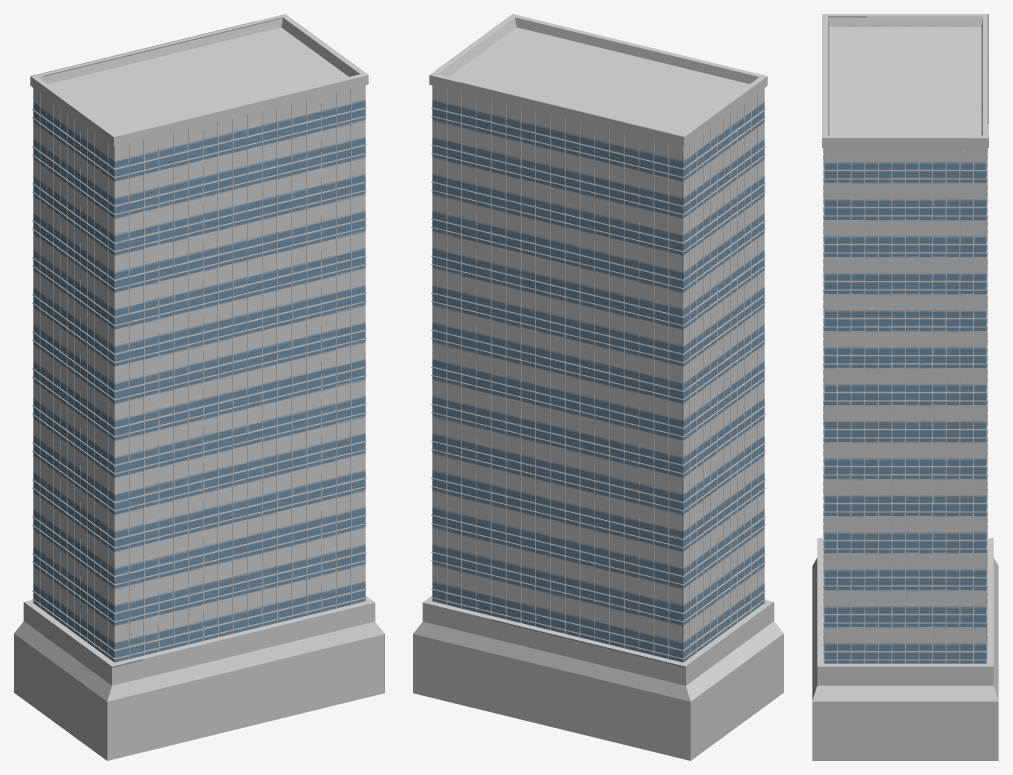
The model's file is Building-Big-Wide-01.fbx.
3 renders of one model, left to right at view 1: azimuth 30°, elevation 25°; view 2: azimuth 150°, elevation 25°; view 3: azimuth 270°, elevation 25°, orthographic.
Parts seen in each view (by area): view 1: Building-Big-Wide-01-BAKED; view 2: Building-Big-Wide-01-BAKED; view 3: Building-Big-Wide-01-BAKED.
Boxes of the visible parts, left/top/right/bottom form: Building-Big-Wide-01-BAKED: left=14, top=14, right=384, bottom=760; Building-Big-Wide-01-BAKED: left=413, top=14, right=783, bottom=760; Building-Big-Wide-01-BAKED: left=812, top=14, right=998, bottom=760.
Size of the model in its own units: 3756 by 7977 by 2184.
